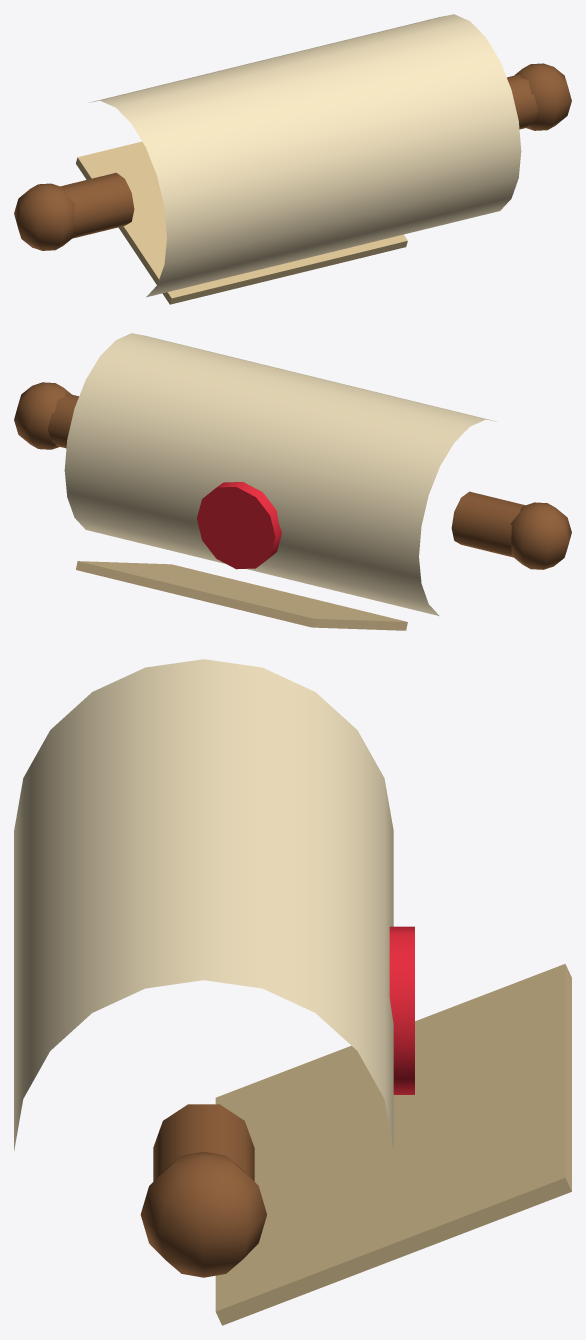
Rendered from Scroll3D.glb.
3 views of the same model, one above another, from view 1: azimuth 30°, elevation 25°; view 2: azimuth 150°, elevation 25°; view 3: azimuth 270°, elevation 25° (orthographic). The views are drawn at different scales.
Parts seen in each view (by area): view 1: Body; view 2: Body; view 3: Body.
Part boxes in pixels (box(x1,y1,x2,y2)): Body: box(14, 14, 571, 304); Body: box(14, 333, 571, 630); Body: box(14, 659, 571, 1325).
Size of the model in its own units: 2.8 by 1.04 by 1.32.
Materials: 1 (1 with a texture image).
